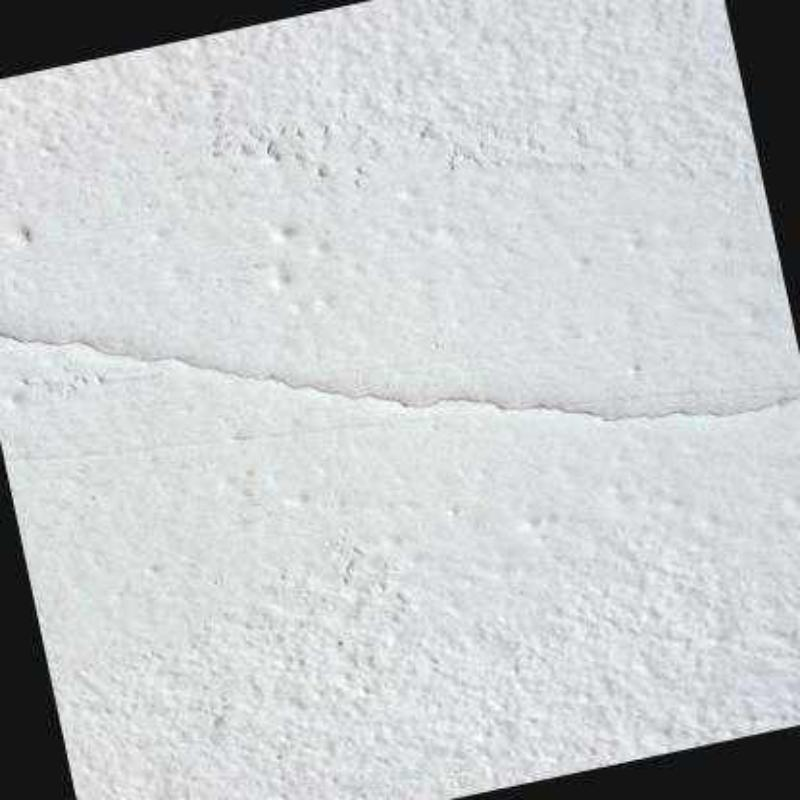crack: (0, 328, 798, 423)
